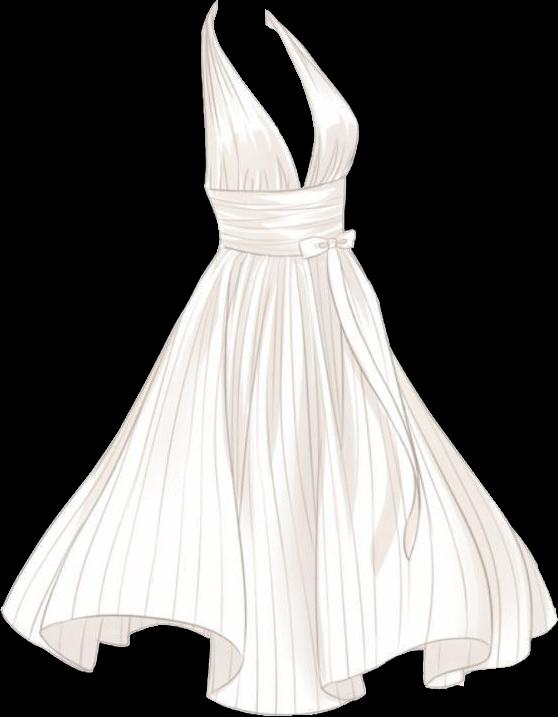Bodice: (201, 0, 358, 260)
Hemline: (0, 607, 557, 716)
Neckline: (210, 0, 317, 191), (203, 175, 345, 193)
Skirt: (1, 248, 557, 715)
Waistline: (215, 244, 347, 266)
